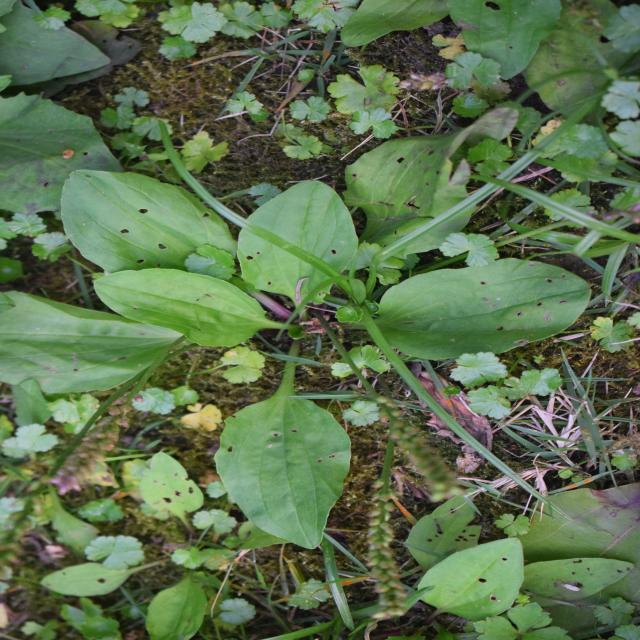plantain: (128, 57, 484, 551)
